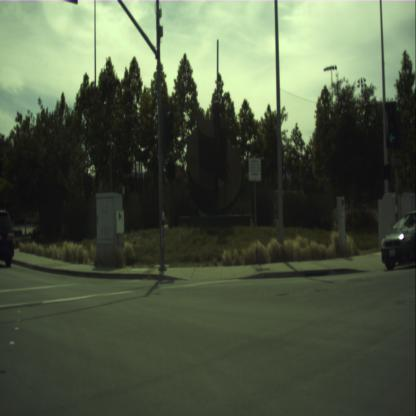GreenLeft: (386, 103, 398, 147)
